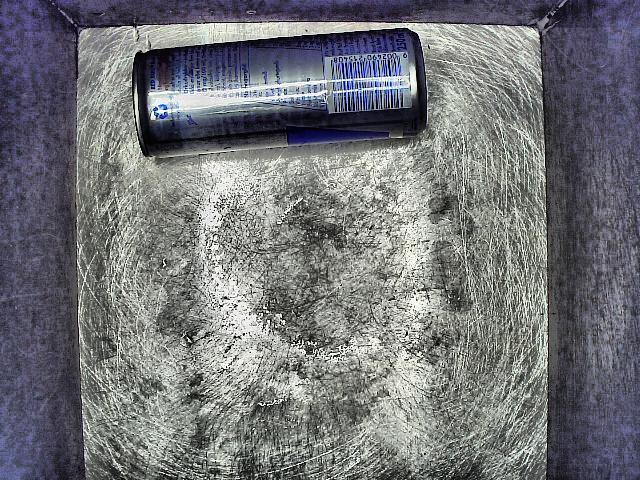Bottles: (132, 0, 442, 198)
